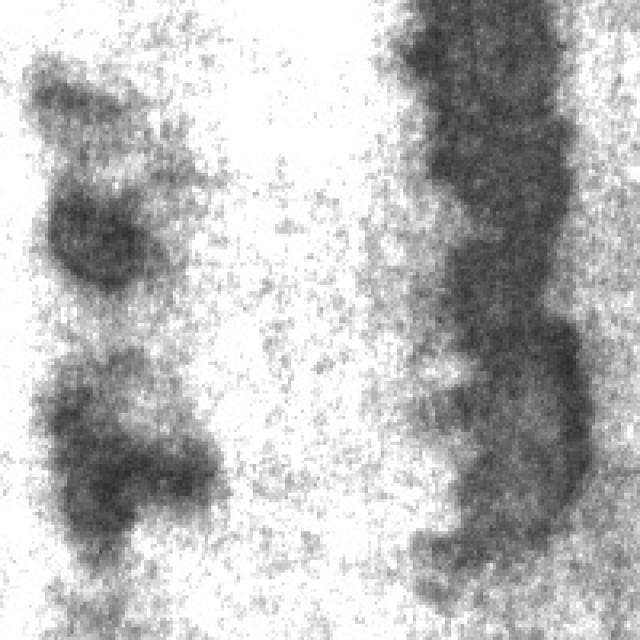patches: (390, 0, 596, 589), (29, 371, 211, 557), (38, 157, 166, 301)
